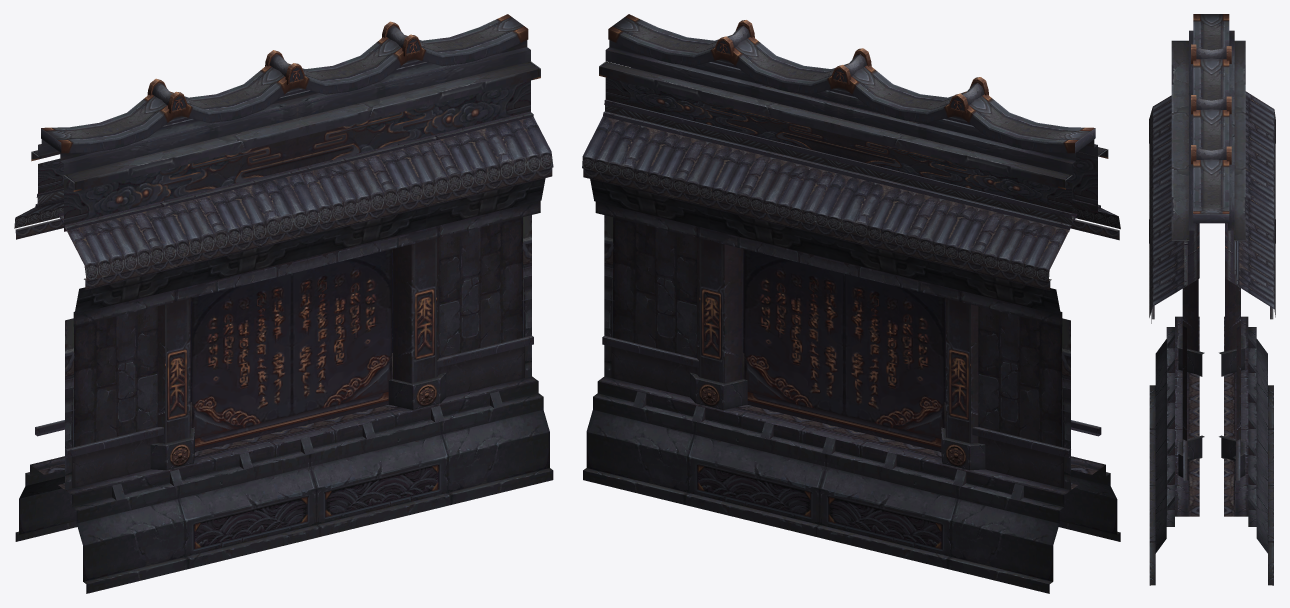
File: 2_BTT_ChaiFenPinJieQiang_01.FBX
3 views of the same model, side by side, from view 1: azimuth 30°, elevation 25°; view 2: azimuth 150°, elevation 25°; view 3: azimuth 270°, elevation 25° (orthographic). The views are drawn at different scales.
Visible parts, largest first — view 1: 2_BTT_ChaiFenPinJieQiang_01_01, 2_BTT_ChaiFenPinJieQiang_01_02; view 2: 2_BTT_ChaiFenPinJieQiang_01_01, 2_BTT_ChaiFenPinJieQiang_01_02; view 3: 2_BTT_ChaiFenPinJieQiang_01_01, 2_BTT_ChaiFenPinJieQiang_01_02.
Boxes of the visible parts, x1,y1,x2,y2 form: 2_BTT_ChaiFenPinJieQiang_01_01: (14, 80, 553, 593); 2_BTT_ChaiFenPinJieQiang_01_02: (31, 14, 540, 191); 2_BTT_ChaiFenPinJieQiang_01_01: (582, 68, 1120, 593); 2_BTT_ChaiFenPinJieQiang_01_02: (599, 14, 1108, 189); 2_BTT_ChaiFenPinJieQiang_01_01: (1149, 91, 1275, 585); 2_BTT_ChaiFenPinJieQiang_01_02: (1171, 14, 1245, 240).
Size of the model in its own units: 1065 by 989 by 285.
1 material, 1 textured.
